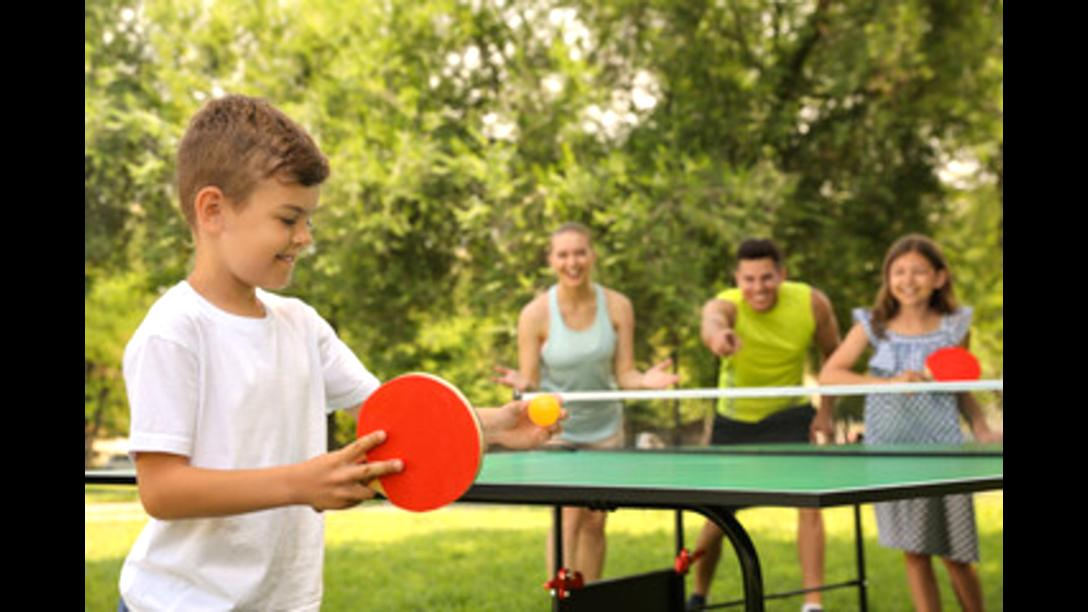Table-Tennis-Ball: (528, 394, 558, 424)
